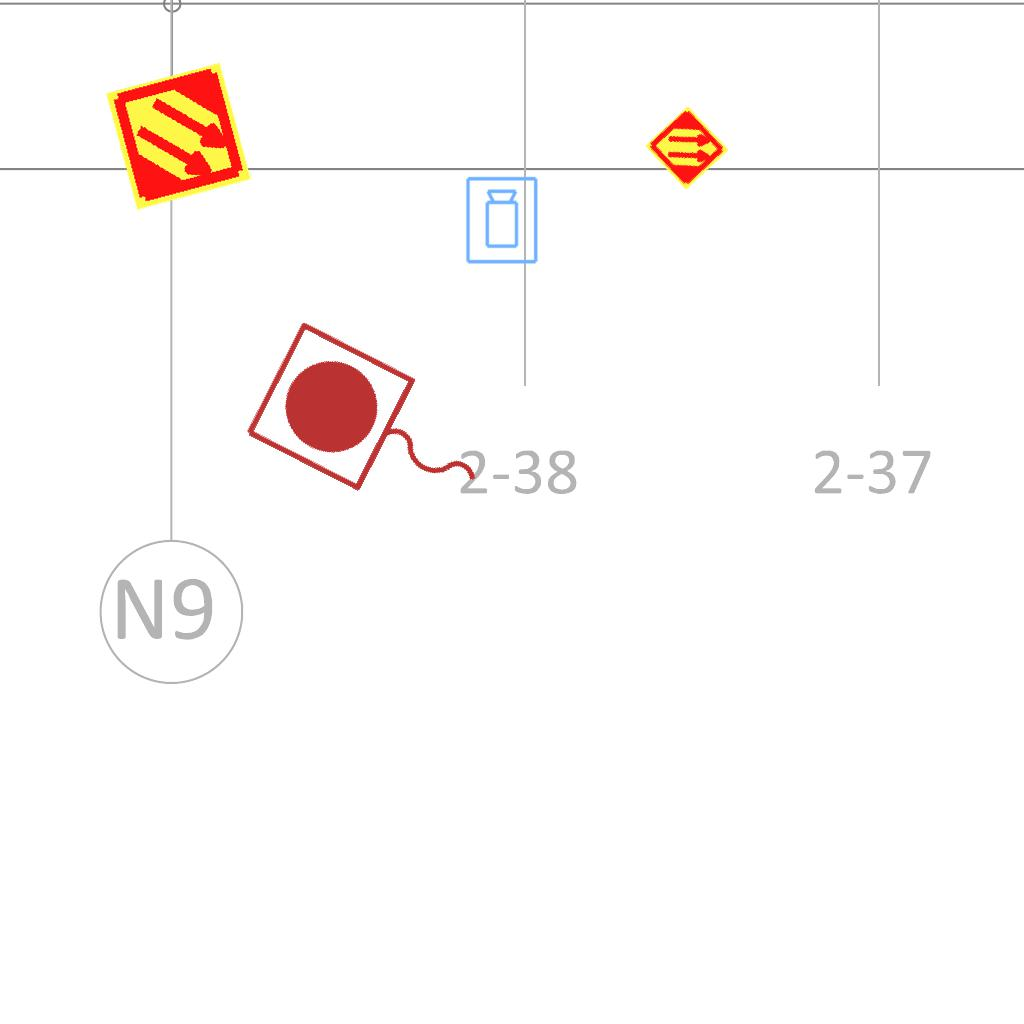ASR_Ansaugrauchmelder: (101, 59, 256, 214), (643, 104, 731, 192)
KFO_Kamera_mit_Festobjektiv: (464, 175, 541, 266)
Zugtaster: (233, 311, 517, 551)
